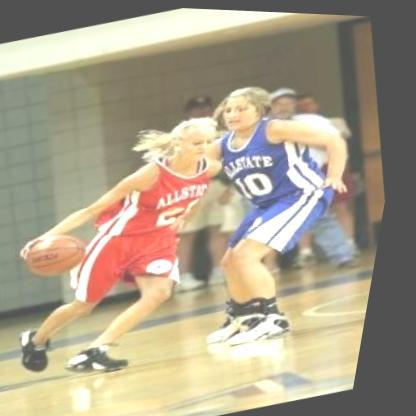basketball: (26, 219, 102, 286)
